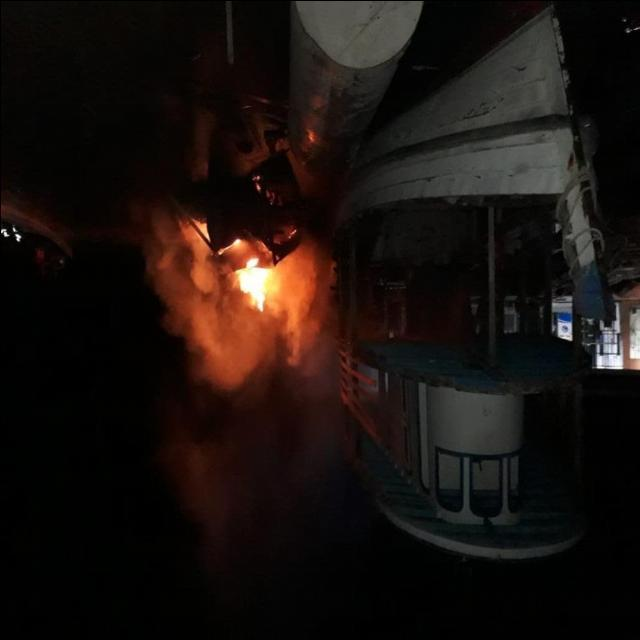Fire: (231, 248, 275, 318)
